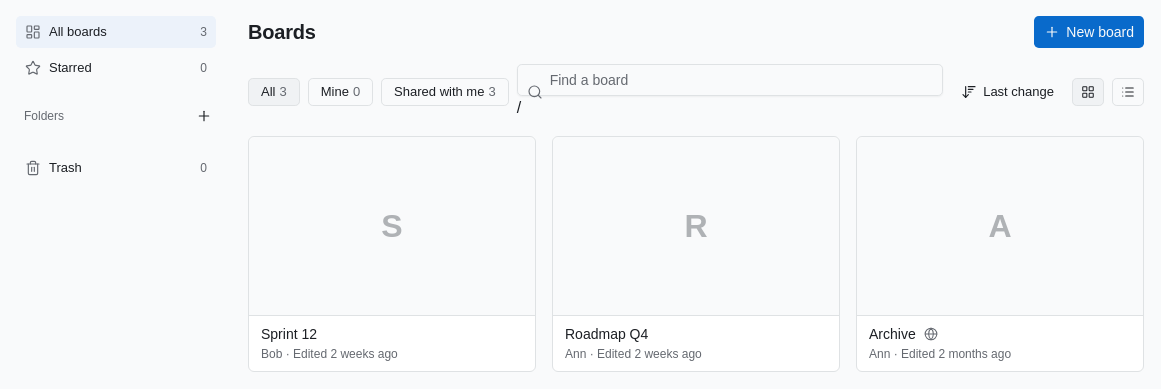
Test case: an empty trash says so
The image size is (1161, 389).
Click the button "Trash 0" at (116, 168), box [17,153,215,183]
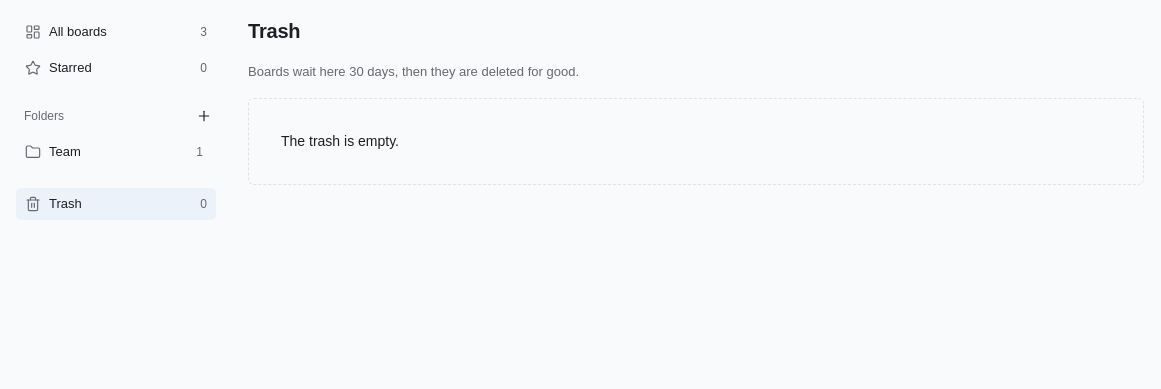
Expected: the text "The trash is empty." is shown, [248,98,1144,184]
